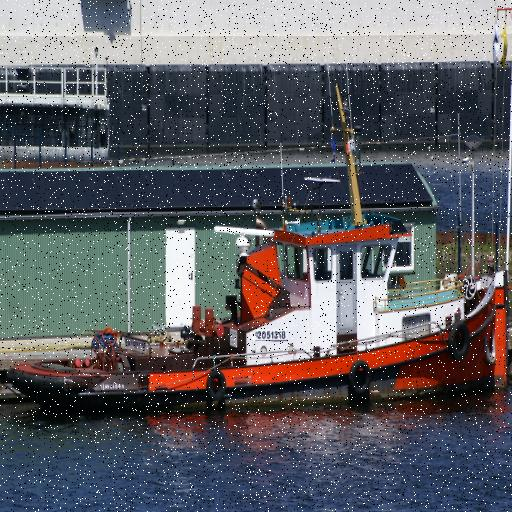tugboat: (6, 51, 512, 425)
